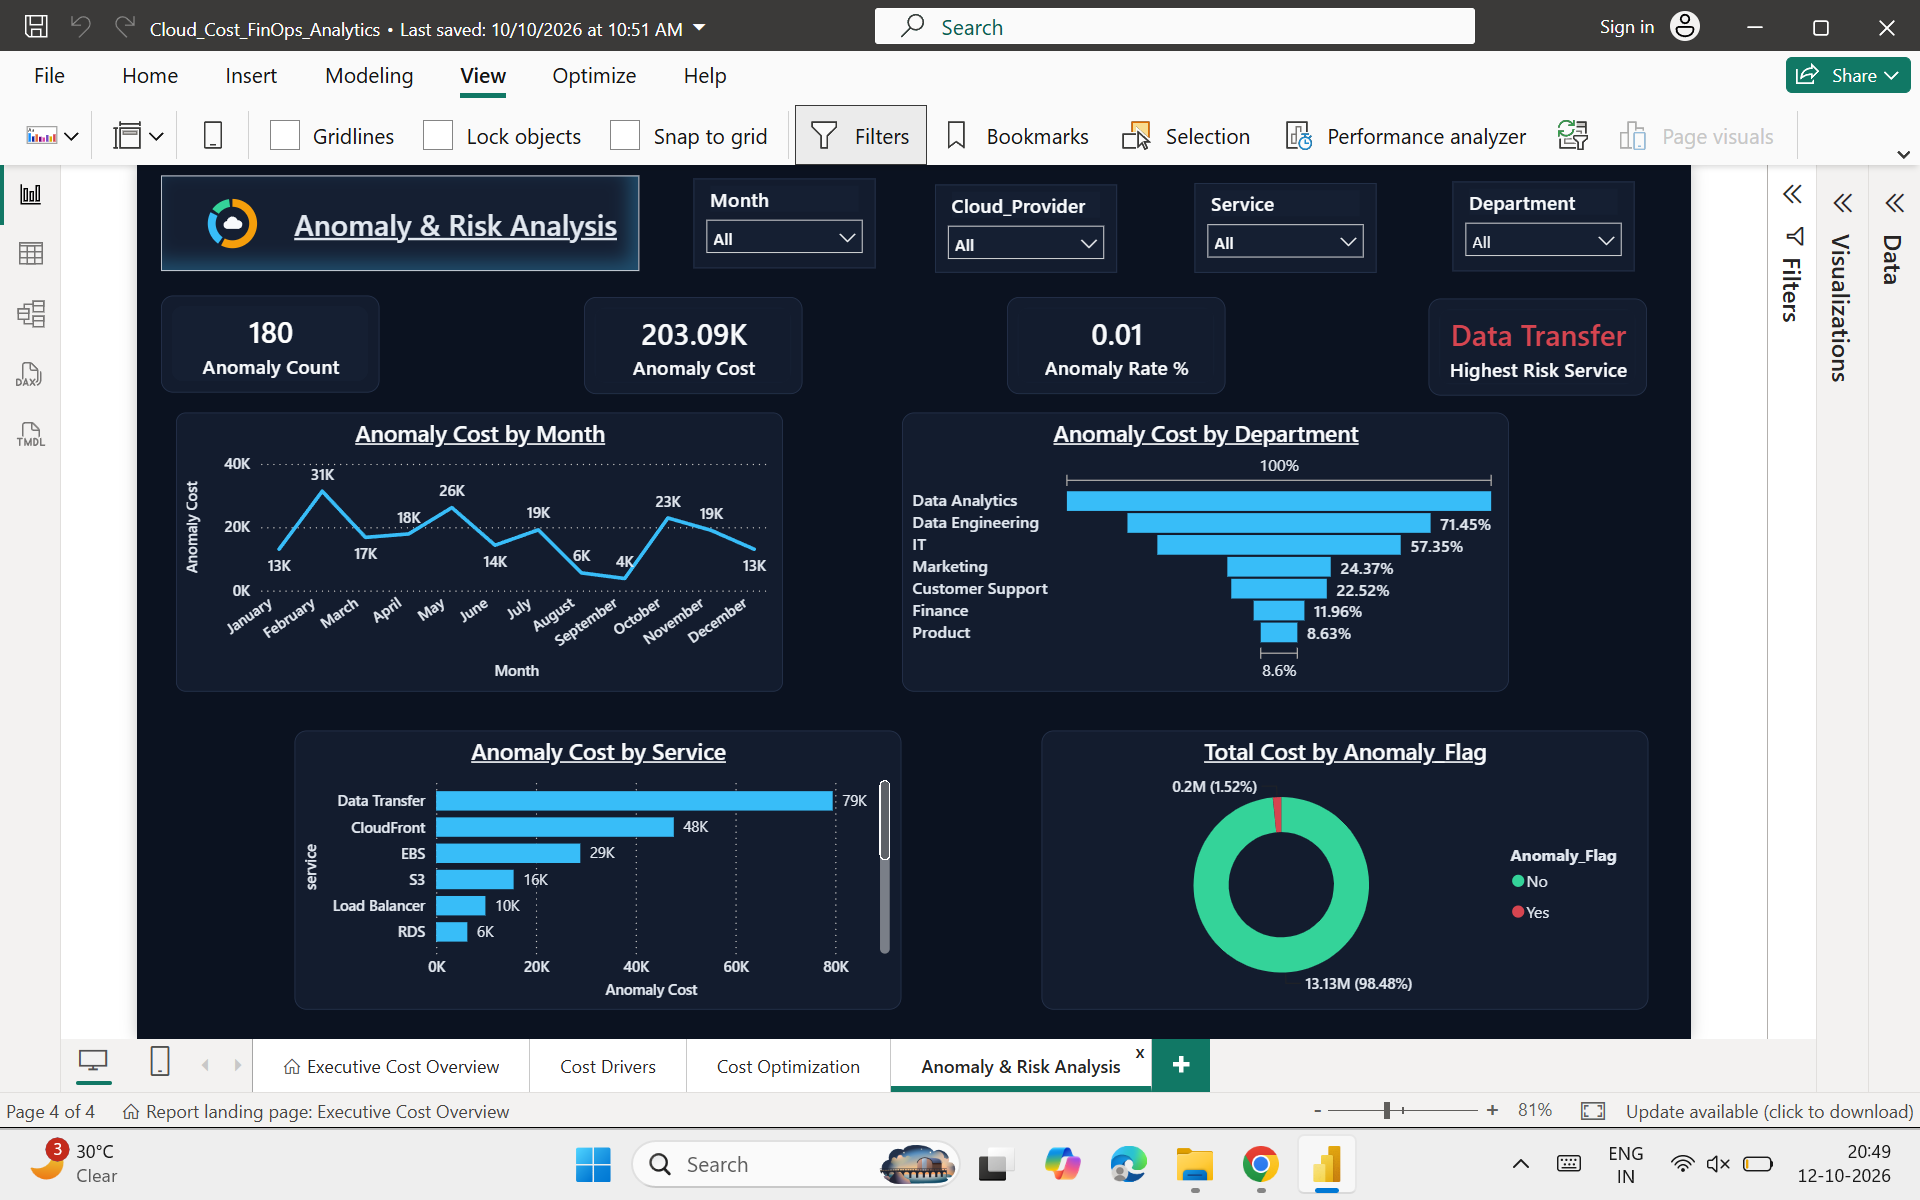

The page's visual inventory and layout, read from the dashboard file:
{"tool":"powerbi","page":{"name":"Anomaly & Risk Analysis","canvas":[1280,720],"ordinal":3},"visuals":[{"type":"cardVisual","fields":{"Data":["measures (2).Anomaly Count"]},"box":[19.7,107.5,180.2,80.3],"z":0},{"type":"cardVisual","fields":{"Data":["measures (2).Anomaly Cost"]},"box":[368.1,108.5,180,80.3],"z":1000},{"type":"cardVisual","fields":{"Data":["measures (2).Highest Risk Service"]},"box":[1064.5,110.5,180,80.3],"z":2000},{"type":"cardVisual","fields":{"Data":["measures (2).Anomaly Rate %"]},"box":[716.3,108.5,180,80.3],"z":3000},{"type":"textbox","box":[19.7,9.1,393.7,78.7],"z":4000},{"type":"lineChart","fields":{"Y":["measures (2).Anomaly Cost"],"Category":["cloud_cost_finops_cleaned.date.Variation.Date Hierarchy.Month"]},"box":[31.8,204.4,500,230],"z":5000},{"type":"barChart","title":"Anomaly Cost by Service","fields":{"Y":["measures (2).Anomaly Cost"],"Category":["cloud_cost_finops_cleaned.service"]},"box":[130.2,466.4,499.7,230.2],"z":6000},{"type":"funnel","title":"Anomaly Cost by Department","fields":{"Category":["cloud_cost_finops_cleaned.department"],"Y":["measures (2).Anomaly Cost"]},"box":[629.9,204.4,499.7,230.2],"z":7000},{"type":"donutChart","title":"Total Cost by Anomaly_Flag","fields":{"Category":["cloud_cost_finops_cleaned.anomaly_flag"],"Y":["measures (2).Total Cost"]},"box":[745,466.4,499.7,230.2],"z":8000},{"type":"slicer","fields":{"Values":["cloud_cost_finops_cleaned.date.Variation.Date Hierarchy.Month"]},"box":[458.8,10.6,149.9,74.2],"z":9000},{"type":"slicer","fields":{"Values":["cloud_cost_finops_cleaned.cloud_provider"]},"box":[657.2,15.5,149.9,72.7],"z":10000},{"type":"slicer","fields":{"Values":["cloud_cost_finops_cleaned.service"]},"box":[870.7,14.6,149.9,74.2],"z":11000},{"type":"slicer","fields":{"Values":["cloud_cost_finops_cleaned.department"]},"box":[1084.2,13.6,149.9,74.2],"z":12000},{"type":"image","box":[25.7,22.7,105,52],"z":13000}]}

Visuals, with their boxes on the page's 1280x720 design canvas (x1, y1, x2, y2). These are canvas units, not pixel positions in the 1920x1200 screenshot, which may show the page scaled, cropped or inside an application window:
cardVisual - measures (2).Anomaly Count: bbox=[20, 108, 200, 188]
cardVisual - measures (2).Anomaly Cost: bbox=[368, 108, 548, 189]
cardVisual - measures (2).Highest Risk Service: bbox=[1064, 110, 1244, 191]
cardVisual - measures (2).Anomaly Rate %: bbox=[716, 108, 896, 189]
textbox: bbox=[20, 9, 413, 88]
lineChart - measures (2).Anomaly Cost x cloud_cost_finops_cleaned.date.Variation.Date Hierarchy.Month: bbox=[32, 204, 532, 434]
"Anomaly Cost by Service" barChart: bbox=[130, 466, 630, 697]
"Anomaly Cost by Department" funnel: bbox=[630, 204, 1130, 435]
"Total Cost by Anomaly_Flag" donutChart: bbox=[745, 466, 1245, 697]
slicer - cloud_cost_finops_cleaned.date.Variation.Date Hierarchy.Month: bbox=[459, 11, 609, 85]
slicer - cloud_cost_finops_cleaned.cloud_provider: bbox=[657, 16, 807, 88]
slicer - cloud_cost_finops_cleaned.service: bbox=[871, 15, 1021, 89]
slicer - cloud_cost_finops_cleaned.department: bbox=[1084, 14, 1234, 88]
image: bbox=[26, 23, 131, 75]
